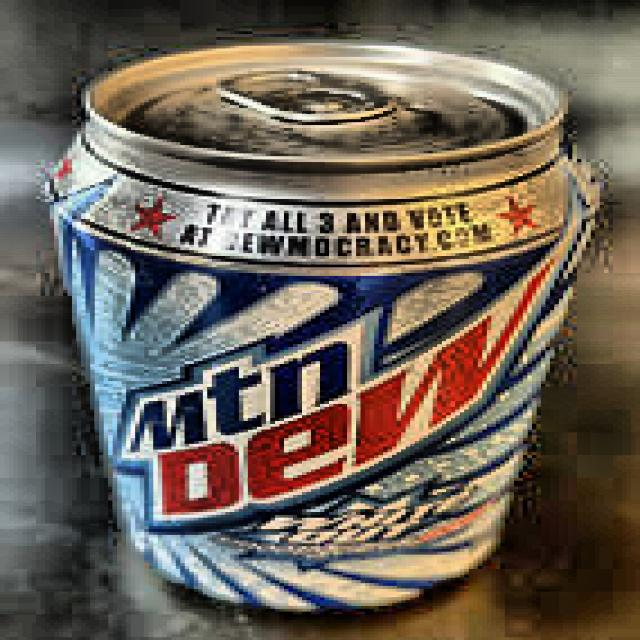Cans: (27, 24, 607, 622)
